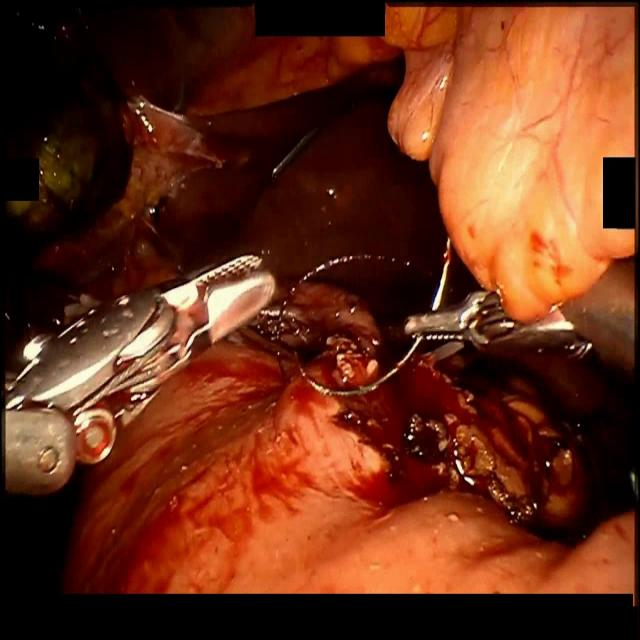surgical-area: (0, 0, 640, 593)
surgical-tool: (1, 250, 276, 500), (408, 258, 637, 389)
